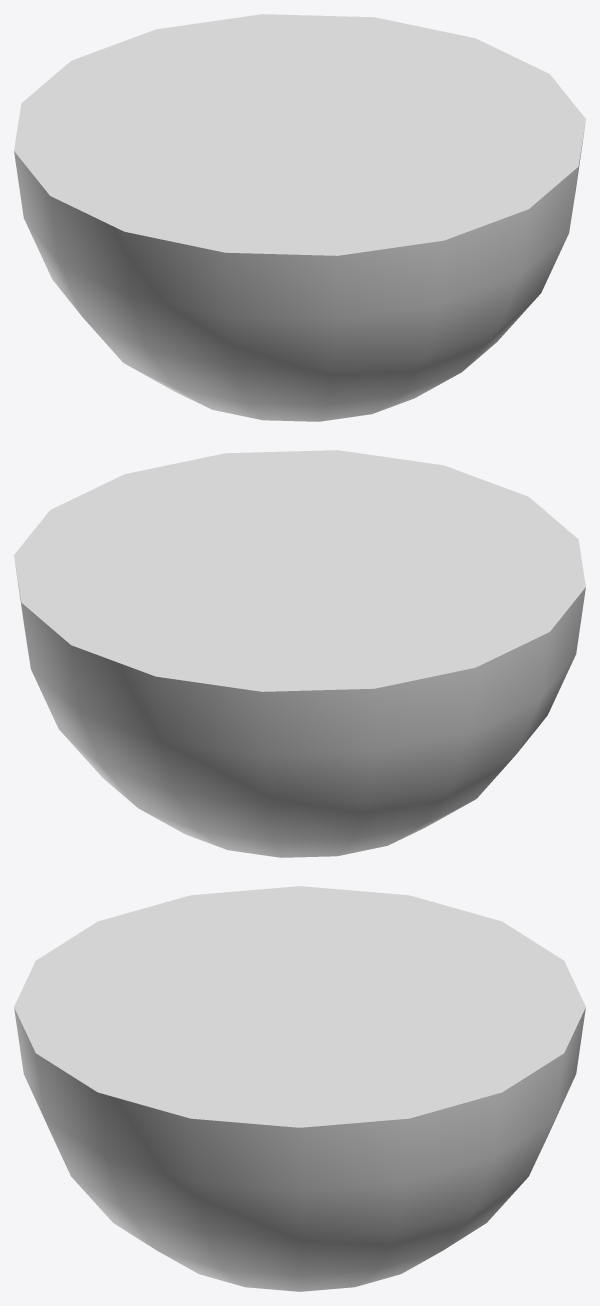
Rendered from spherical_building_005.fbx.
3 renders of one model, top to bottom at view 1: azimuth 30°, elevation 25°; view 2: azimuth 150°, elevation 25°; view 3: azimuth 270°, elevation 25°, orthographic.
Parts seen in each view (by area): view 1: spherical_building_005; view 2: spherical_building_005; view 3: spherical_building_005.
Part boxes in pixels (x1=…): spherical_building_005: x1=14, y1=14, x2=585, y2=421; spherical_building_005: x1=14, y1=450, x2=585, y2=857; spherical_building_005: x1=14, y1=886, x2=585, y2=1291.
Bounding box in the file's own units: 2044 × 2044 × 1022.
